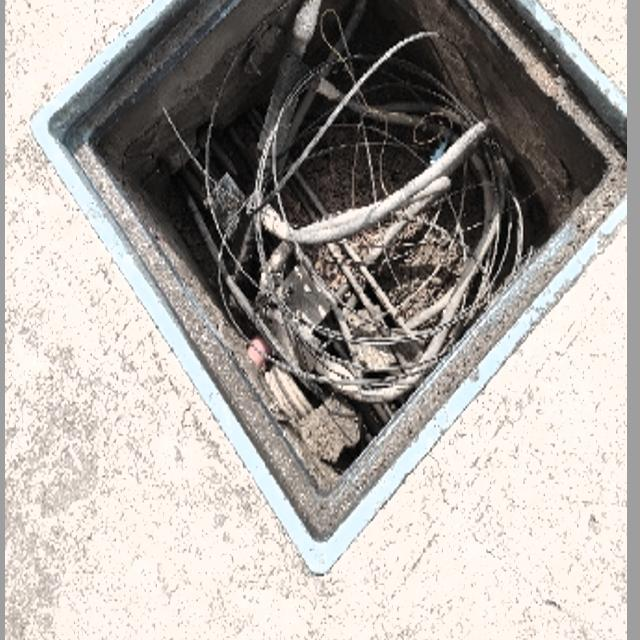lose: (28, 0, 626, 576)
